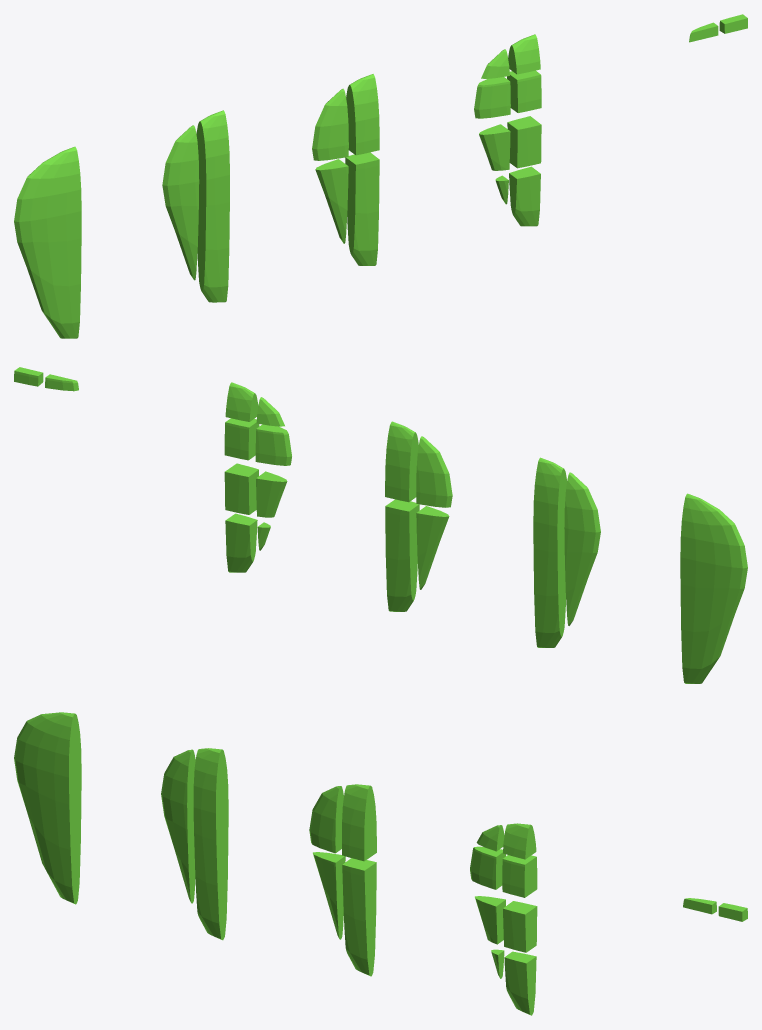
Rendered from nopal_allCut_v2.fbx.
The picture shows the model from 3 angles, top to bottom: view 1: azimuth 30°, elevation 25°; view 2: azimuth 150°, elevation 25°; view 3: azimuth 330°, elevation 25°; orthographic projection.
Visible parts, largest first — view 1: 1/2_Nopal, 2/4_Nopal.001, 1/4_Nopal.001, 6/8_Nopal, 2/8_Nopal, 1/8_Nopal, 14/16, 5/8_Nopal, 10/16, 5/16, 6/16, 9/16 (+2 smaller); view 2: 1/2_Nopal, 2/4_Nopal.001, 1/4_Nopal.001, 6/8_Nopal, 2/8_Nopal, 1/8_Nopal, 14/16, 5/8_Nopal, 10/16, 5/16, 6/16, 9/16 (+2 smaller); view 3: 1/2_Nopal, 2/4_Nopal.001, 6/8_Nopal, 1/4_Nopal.001, 2/8_Nopal, 1/8_Nopal, 14/16, 10/16, 5/8_Nopal, 6/16, 5/16, 9/16 (+2 smaller).
Boxes of the visible parts, left/top/right/bottom form: 1/2_Nopal: left=14, top=146, right=81, bottom=338; 2/4_Nopal.001: left=196, top=110, right=229, bottom=302; 1/4_Nopal.001: left=162, top=125, right=199, bottom=280; 6/8_Nopal: left=345, top=152, right=379, bottom=265; 2/8_Nopal: left=346, top=74, right=379, bottom=155; 1/8_Nopal: left=312, top=88, right=348, bottom=160; 14/16: left=509, top=166, right=540, bottom=226; 5/8_Nopal: left=315, top=159, right=348, bottom=243; 10/16: left=507, top=116, right=541, bottom=168; 5/16: left=474, top=77, right=510, bottom=118; 6/16: left=507, top=70, right=541, bottom=112; 9/16: left=479, top=124, right=510, bottom=170; 1/2_Nopal: left=680, top=493, right=747, bottom=683; 2/4_Nopal.001: left=533, top=457, right=567, bottom=647; 1/4_Nopal.001: left=564, top=472, right=600, bottom=625; 6/8_Nopal: left=385, top=499, right=419, bottom=611; 2/8_Nopal: left=385, top=421, right=418, bottom=502; 1/8_Nopal: left=416, top=436, right=452, bottom=507; 14/16: left=225, top=513, right=257, bottom=572; 5/8_Nopal: left=416, top=506, right=449, bottom=589; 10/16: left=224, top=463, right=258, bottom=514; 5/16: left=255, top=424, right=291, bottom=465; 6/16: left=224, top=418, right=259, bottom=460; 9/16: left=256, top=471, right=287, bottom=517; 1/2_Nopal: left=14, top=712, right=81, bottom=904; 2/4_Nopal.001: left=193, top=748, right=228, bottom=940; 6/8_Nopal: left=342, top=858, right=376, bottom=976; 1/4_Nopal.001: left=161, top=749, right=195, bottom=903; 2/8_Nopal: left=342, top=784, right=376, bottom=861; 1/8_Nopal: left=309, top=786, right=343, bottom=853; 14/16: left=504, top=951, right=536, bottom=1015; 10/16: left=503, top=901, right=537, bottom=952; 5/8_Nopal: left=313, top=852, right=345, bottom=939; 6/16: left=502, top=855, right=537, bottom=897; 5/16: left=470, top=846, right=505, bottom=889; 9/16: left=475, top=896, right=505, bottom=944.
Size of the model in its own units: 134 by 33.55 by 3.9.
